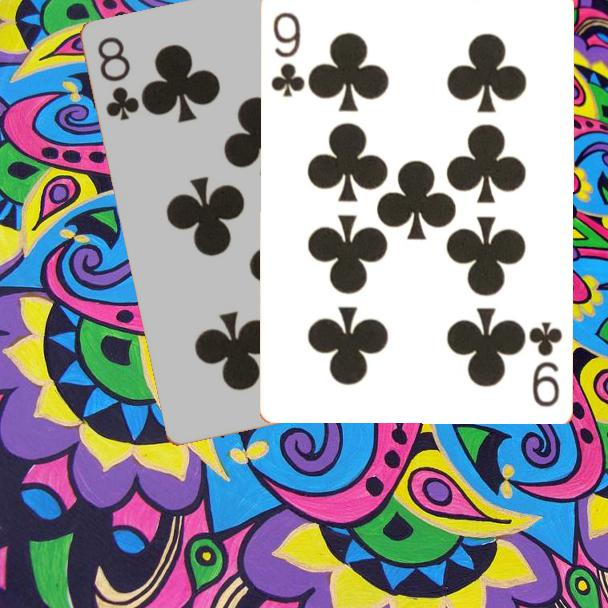c08: (94, 33, 143, 124)
c09: (267, 8, 306, 100), (525, 318, 564, 410)
